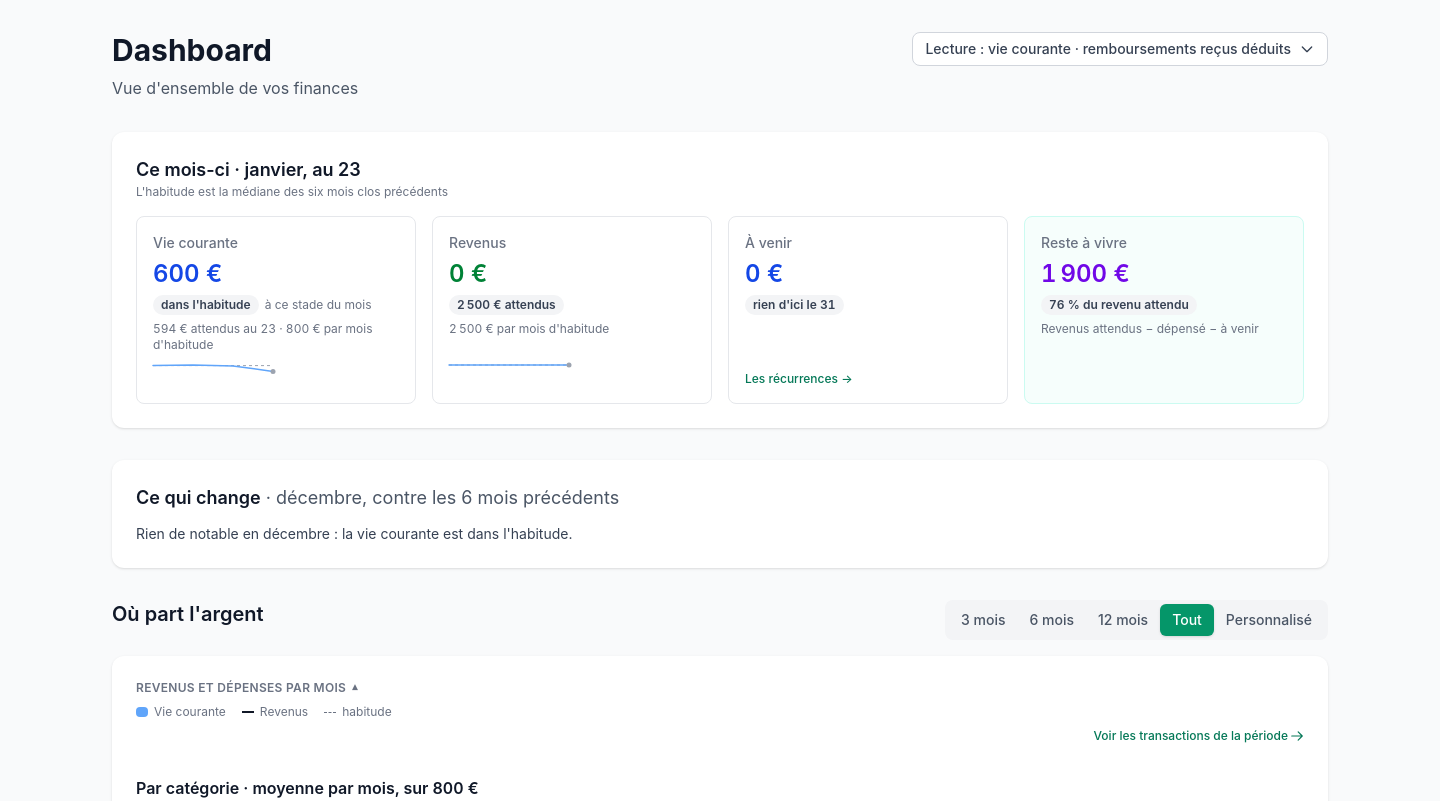
DashboardPage › one reading for the page › offers the mode once, in the reading menu, and every figure follows it
The image size is (1440, 801).
Click the button with test id "reading-menu-button".
click(1120, 49)  # box [912,32,1328,66]
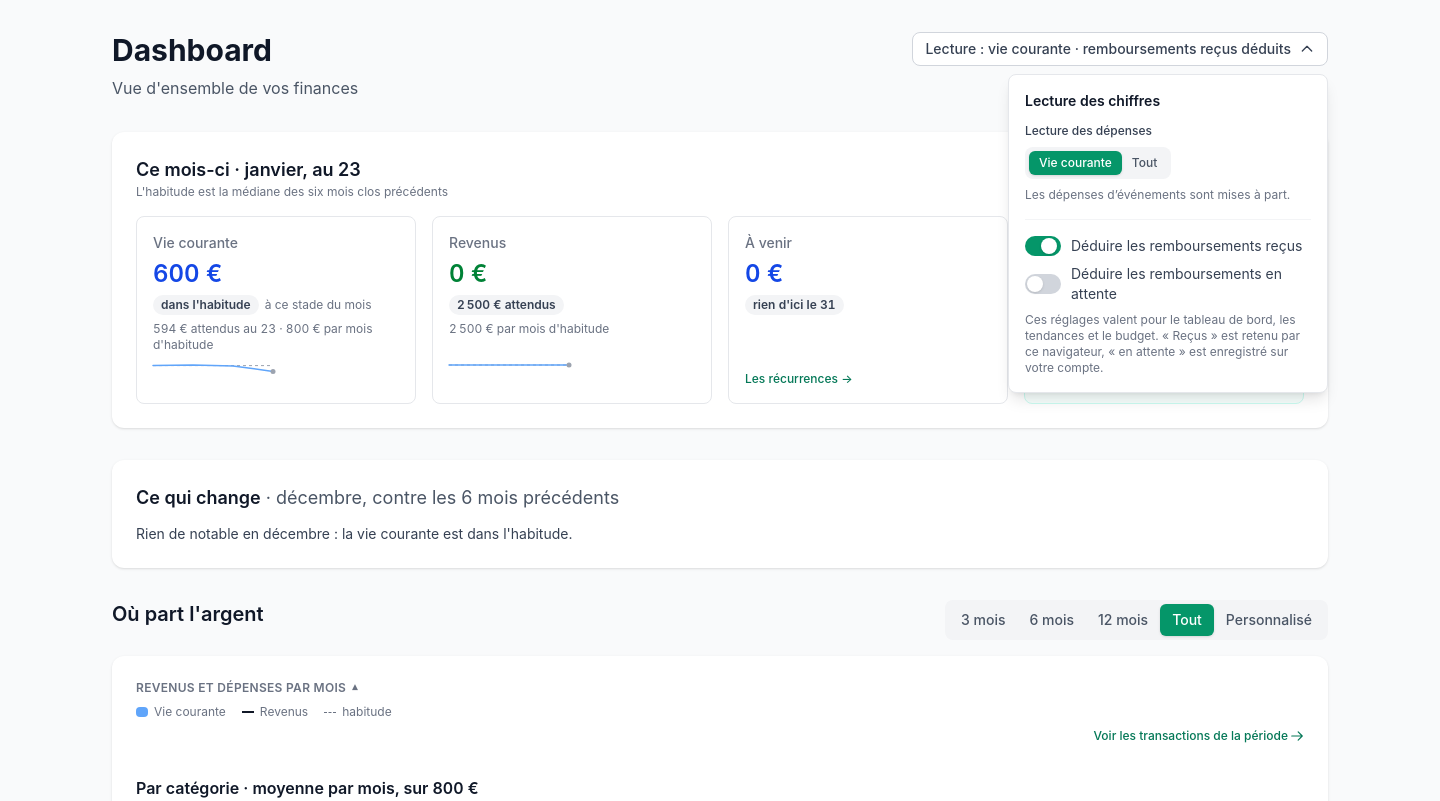
Expected: the number of radio buttons with test id "breakdown-mode-real" is 1
Expected: the radio button with test id "breakdown-mode-real" is shown
Expected: the radio button labelled "Vie courante" is shown, [1029,151,1122,175]
Click the radio button with test id "breakdown-mode-real".
click(1145, 163)  # box [1122,151,1167,175]
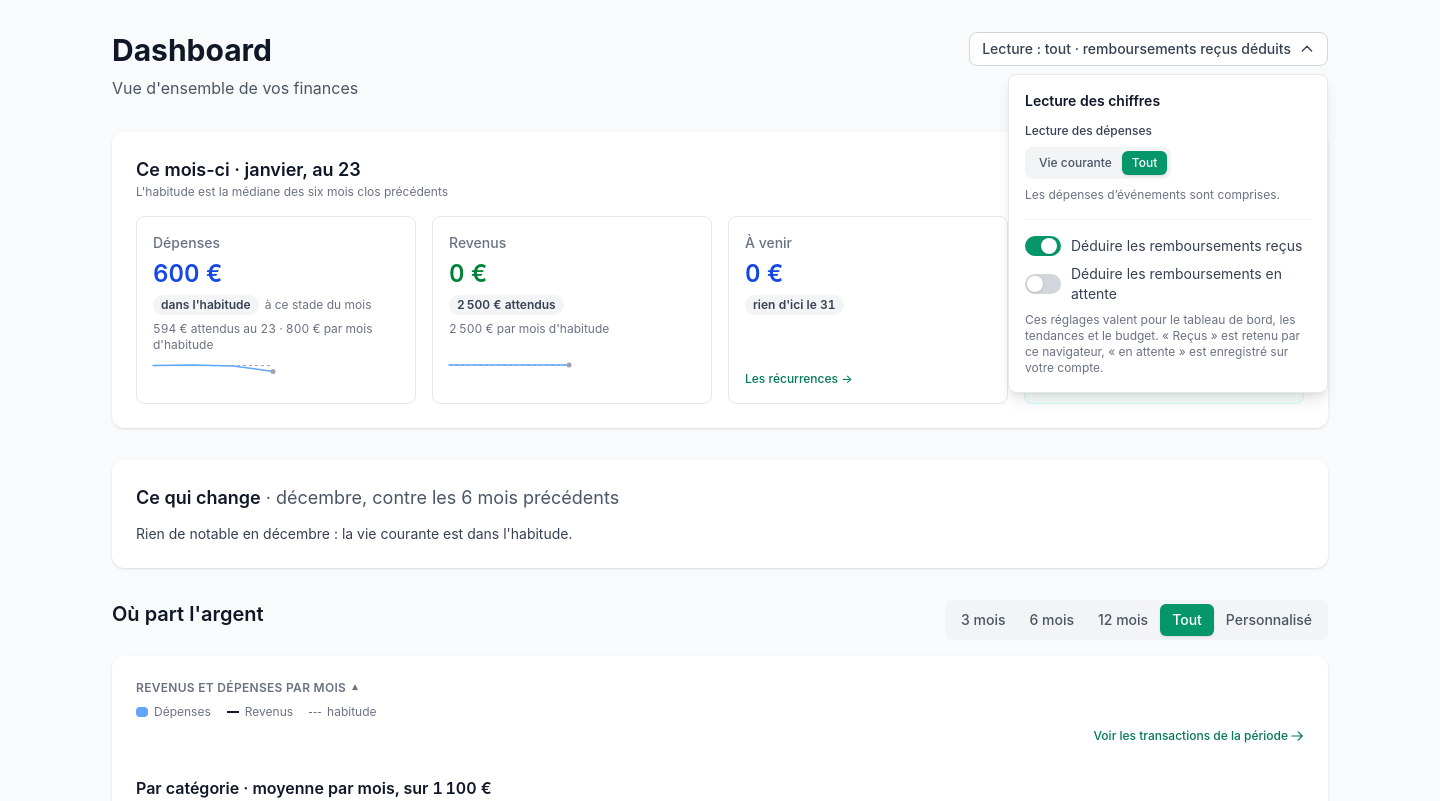
Expected: the heading "Dépenses" is shown, [153,234,220,251]
